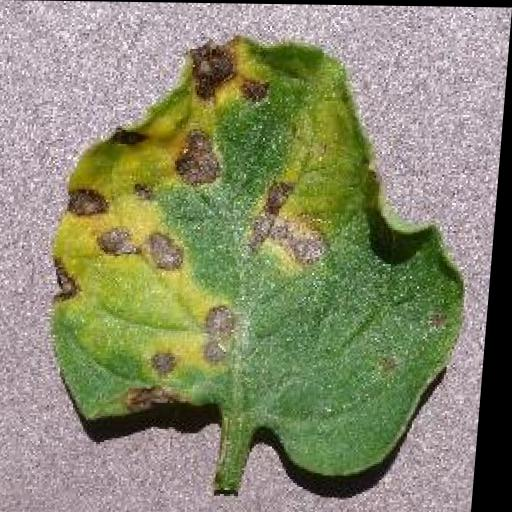Septoria: (45, 30, 485, 477)
